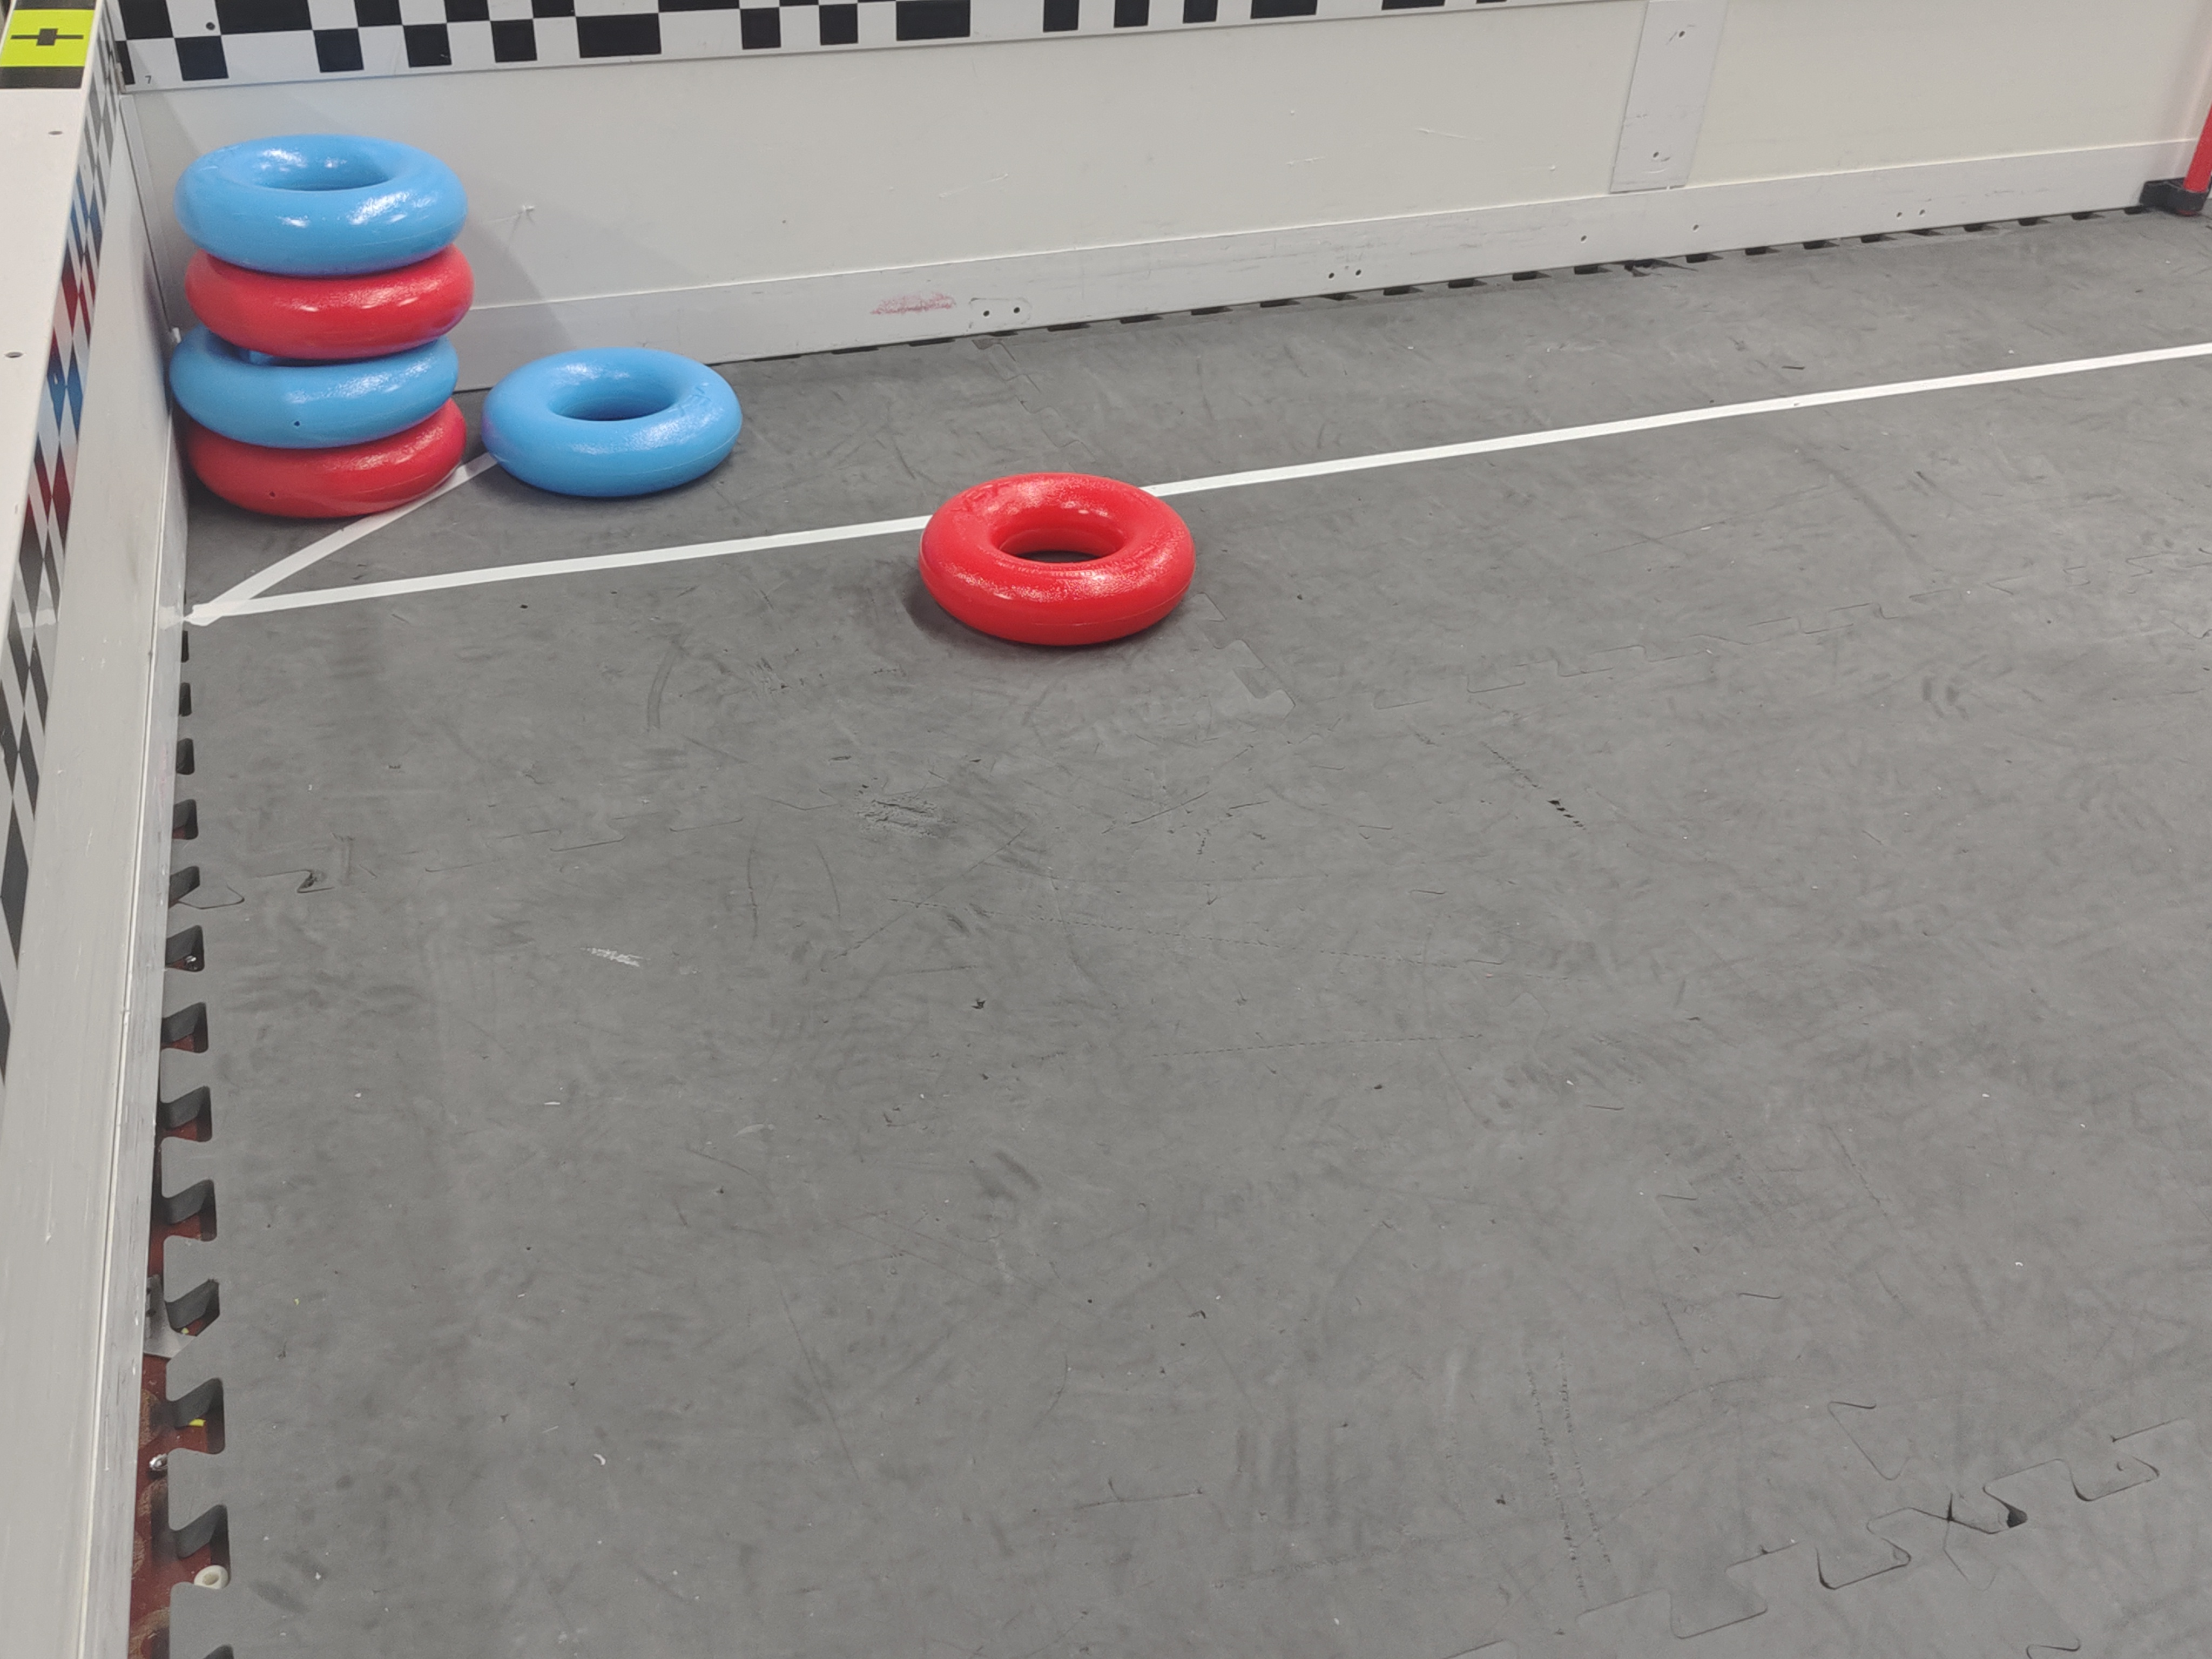blue: (158, 319, 469, 453), (479, 342, 738, 497), (164, 136, 460, 267)
red: (920, 469, 1205, 659), (174, 239, 475, 361), (192, 403, 475, 528)
